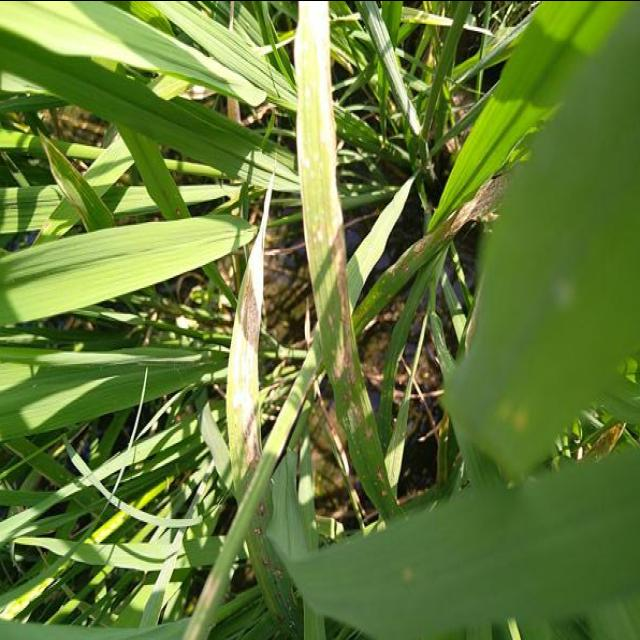Leaf Streak: (294, 0, 388, 518), (352, 168, 513, 336), (227, 174, 273, 505), (38, 129, 116, 231), (250, 501, 283, 590)
